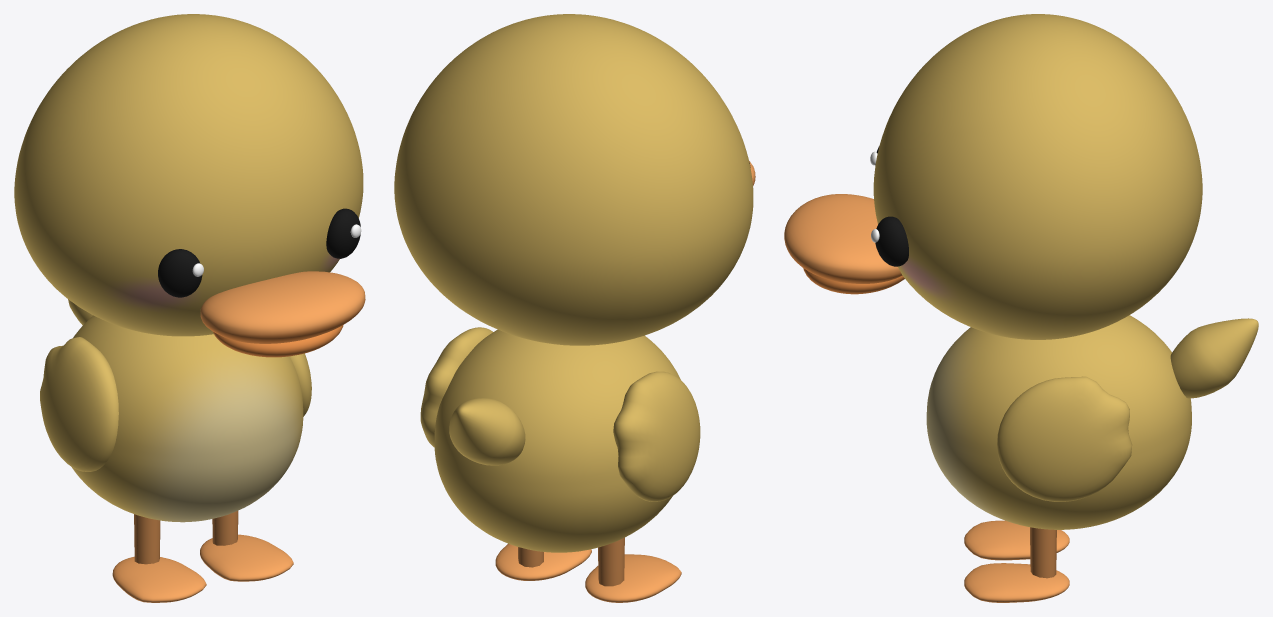
The model's file is duck.glb.
3 views of the same model, side by side, from view 1: azimuth 30°, elevation 25°; view 2: azimuth 150°, elevation 25°; view 3: azimuth 270°, elevation 25° (orthographic). The views are drawn at different scales.
Visible parts, largest first — view 1: head_mesh, body_mesh, bill_top, wing_r, foot1, foot0, eye_-1, bill_bottom, eye_1, leg1_mesh, leg0_mesh, wing_l; view 2: head_mesh, body_mesh, wing_r, tail_mesh, foot1, wing_l, foot0, leg1_mesh; view 3: head_mesh, body_mesh, wing_l, bill_top, tail_mesh, foot0, foot1, eye_1, leg0_mesh, bill_bottom.
Part boxes in pixels (x1=…): head_mesh: x1=14, y1=14, x2=363, y2=336; body_mesh: x1=72, y1=315, x2=303, y2=522; bill_top: x1=200, y1=271, x2=365, y2=343; wing_r: x1=40, y1=337, x2=118, y2=471; foot1: x1=112, y1=556, x2=206, y2=602; foot0: x1=200, y1=534, x2=293, y2=581; eye_-1: x1=158, y1=249, x2=202, y2=297; bill_bottom: x1=213, y1=325, x2=343, y2=357; eye_1: x1=326, y1=208, x2=360, y2=258; leg1_mesh: x1=134, y1=514, x2=160, y2=564; leg0_mesh: x1=212, y1=511, x2=238, y2=545; wing_l: x1=290, y1=353, x2=311, y2=416; head_mesh: x1=394, y1=14, x2=753, y2=345; body_mesh: x1=434, y1=329, x2=680, y2=552; wing_r: x1=613, y1=371, x2=700, y2=501; tail_mesh: x1=449, y1=398, x2=525, y2=465; foot1: x1=585, y1=554, x2=681, y2=602; wing_l: x1=420, y1=327, x2=493, y2=447; foot0: x1=495, y1=543, x2=591, y2=580; leg1_mesh: x1=598, y1=537, x2=624, y2=586; head_mesh: x1=873, y1=14, x2=1202, y2=339; body_mesh: x1=926, y1=315, x2=1191, y2=529; wing_l: x1=997, y1=376, x2=1132, y2=501; bill_top: x1=784, y1=194, x2=902, y2=283; tail_mesh: x1=1170, y1=318, x2=1258, y2=398; foot0: x1=964, y1=563, x2=1069, y2=602; foot1: x1=964, y1=520, x2=1069, y2=560; eye_1: x1=875, y1=216, x2=908, y2=266; leg0_mesh: x1=1030, y1=527, x2=1056, y2=578; bill_bottom: x1=803, y1=268, x2=904, y2=294.
Size of the model in its own units: 0.6704 by 1.13 by 0.8952.
